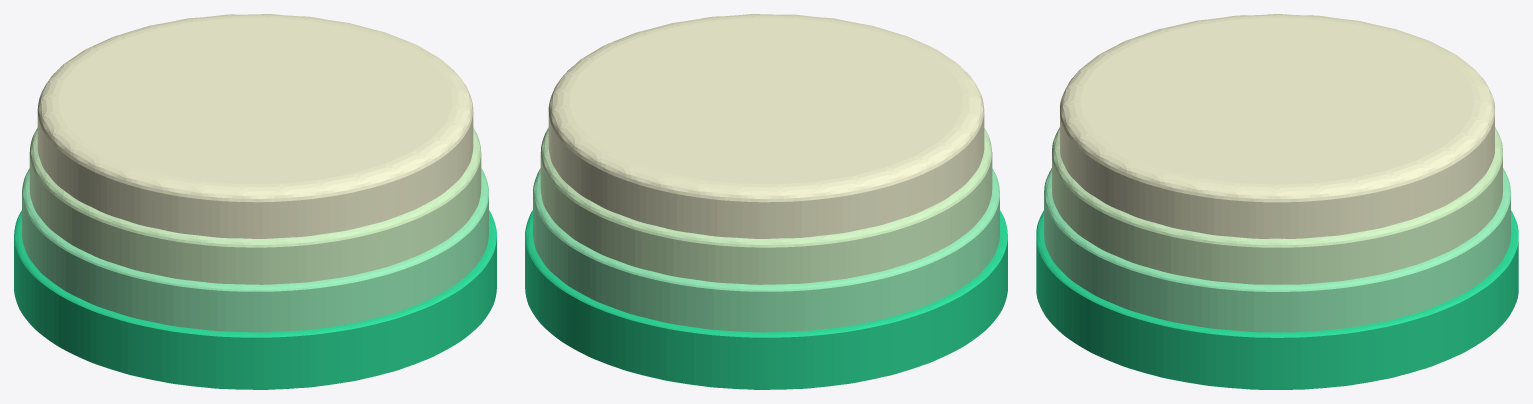
Rendered from bolocilindro cobertura floresta.glb.
3 renders of one model, left to right at view 1: azimuth 30°, elevation 25°; view 2: azimuth 150°, elevation 25°; view 3: azimuth 270°, elevation 25°, orthographic.
Visible parts, largest first — view 1: Cylinder.002, Cylinder.005, Cylinder.004, Cylinder.003; view 2: Cylinder.002, Cylinder.005, Cylinder.004, Cylinder.003; view 3: Cylinder.002, Cylinder.005, Cylinder.004, Cylinder.003.
Boxes of the visible parts, x1,y1,x2,y2 form: Cylinder.002: (37, 14, 473, 238); Cylinder.005: (14, 210, 496, 389); Cylinder.004: (22, 168, 488, 332); Cylinder.003: (29, 127, 481, 284); Cylinder.002: (548, 14, 984, 238); Cylinder.005: (525, 210, 1007, 389); Cylinder.004: (533, 168, 999, 332); Cylinder.003: (540, 127, 992, 284); Cylinder.002: (1060, 14, 1494, 238); Cylinder.005: (1036, 210, 1518, 389); Cylinder.004: (1044, 168, 1510, 332); Cylinder.003: (1052, 127, 1502, 284).
Bounding box in the file's own units: 3.04 × 1.32 × 3.04.
